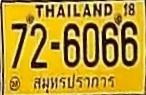0: (82, 22, 98, 66)
2: (30, 23, 46, 68)
6: (120, 21, 138, 65), (101, 22, 118, 66), (63, 22, 79, 66)
7: (11, 22, 27, 68)
SPK: (32, 72, 116, 93)
